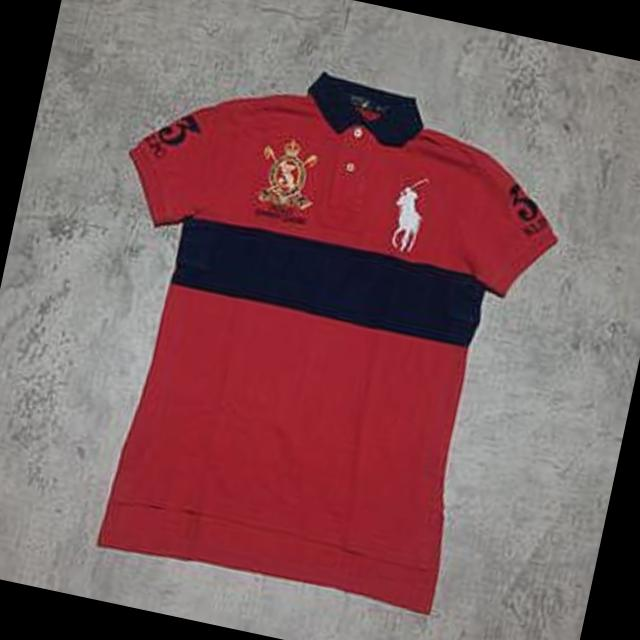T_SHIRT: (15, 11, 604, 640)
